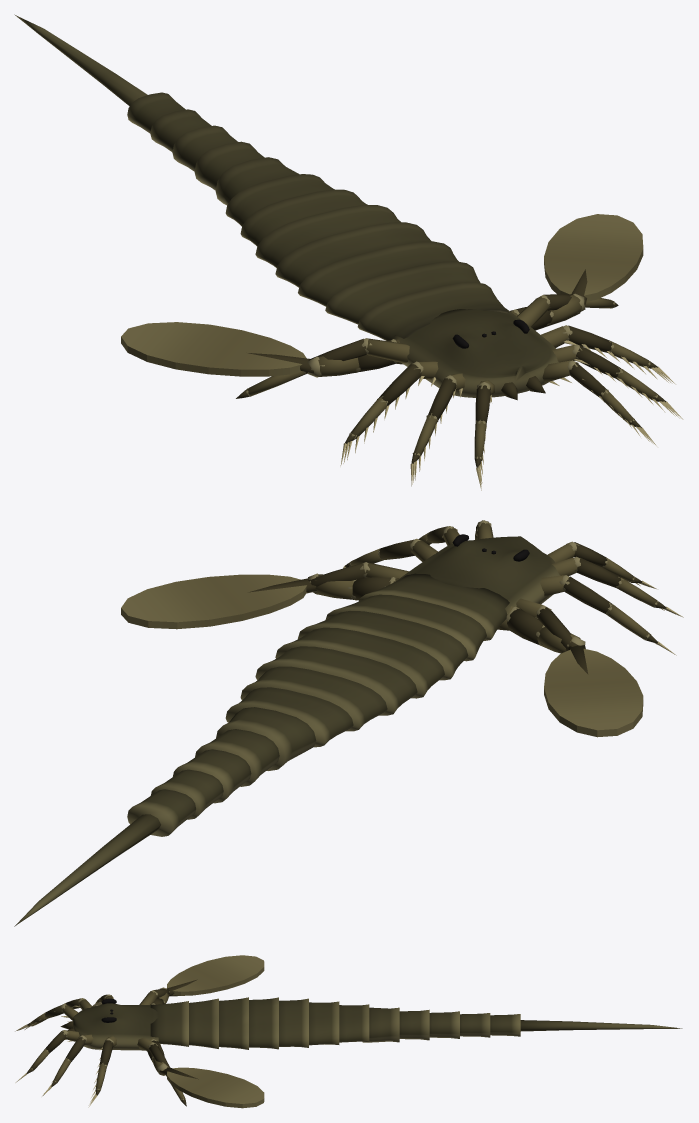
Rendered from OnychopterellaAugusti.fbx.
3 views of the same model, one above another, from view 1: azimuth 30°, elevation 25°; view 2: azimuth 150°, elevation 25°; view 3: azimuth 270°, elevation 25° (orthographic). The views are drawn at different scales.
Visible parts, largest first — view 1: OnychopterellaAugusti; view 2: OnychopterellaAugusti; view 3: OnychopterellaAugusti.
Boxes of the visible parts, <box> form: OnychopterellaAugusti: <box>14,14,683,490</box>; OnychopterellaAugusti: <box>14,520,683,926</box>; OnychopterellaAugusti: <box>15,955,682,1108</box>.
Bounding box in the file's own units: 1.07 × 0.1699 × 2.04.
